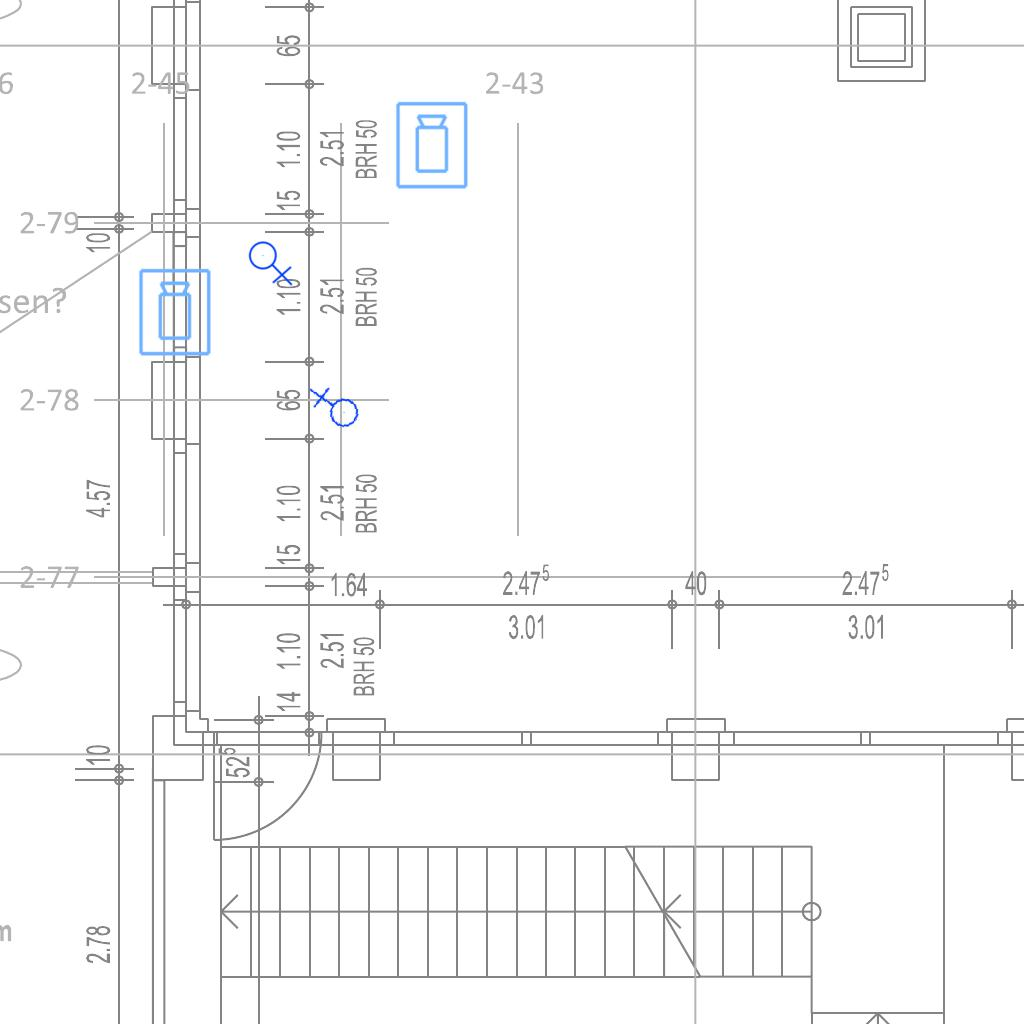Elektroanschluss_allgemein_230V_Geraeteanschlussdose_230V: (306, 379, 363, 438), (248, 237, 295, 286)
KFO_Kamera_mit_Festobjektiv: (137, 267, 214, 358), (394, 100, 471, 191)
